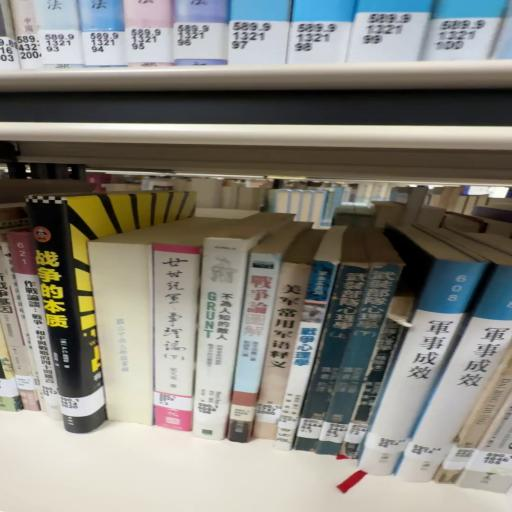backward: (89, 234, 155, 433)
book: (294, 264, 408, 463), (23, 202, 104, 440), (229, 231, 304, 446), (275, 227, 339, 452), (195, 234, 257, 443), (148, 240, 202, 434)
